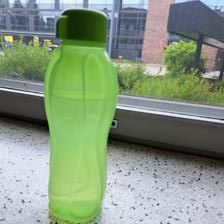bottle: (40, 11, 123, 219)
